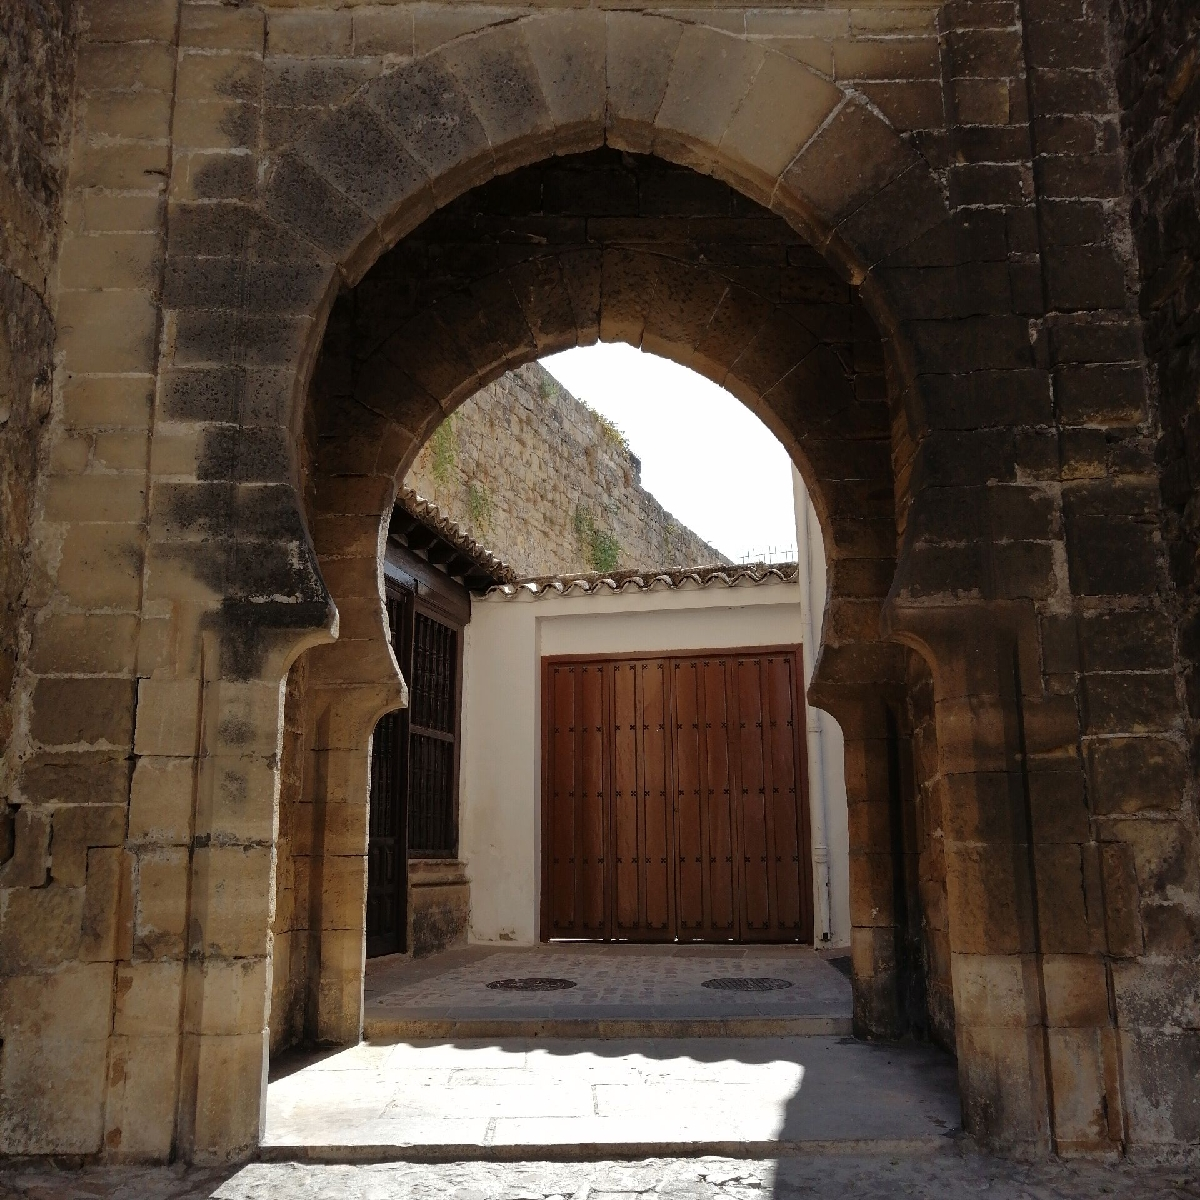arco-herradura: (227, 54, 965, 727)
